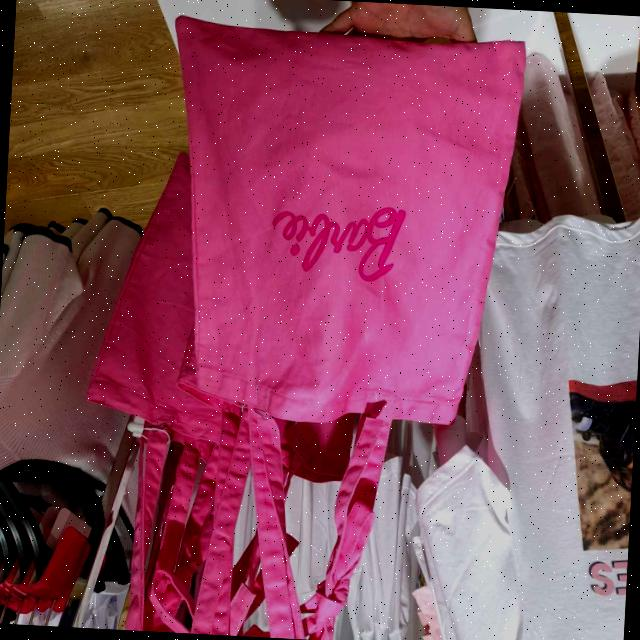Handbag: (166, 0, 557, 465)
